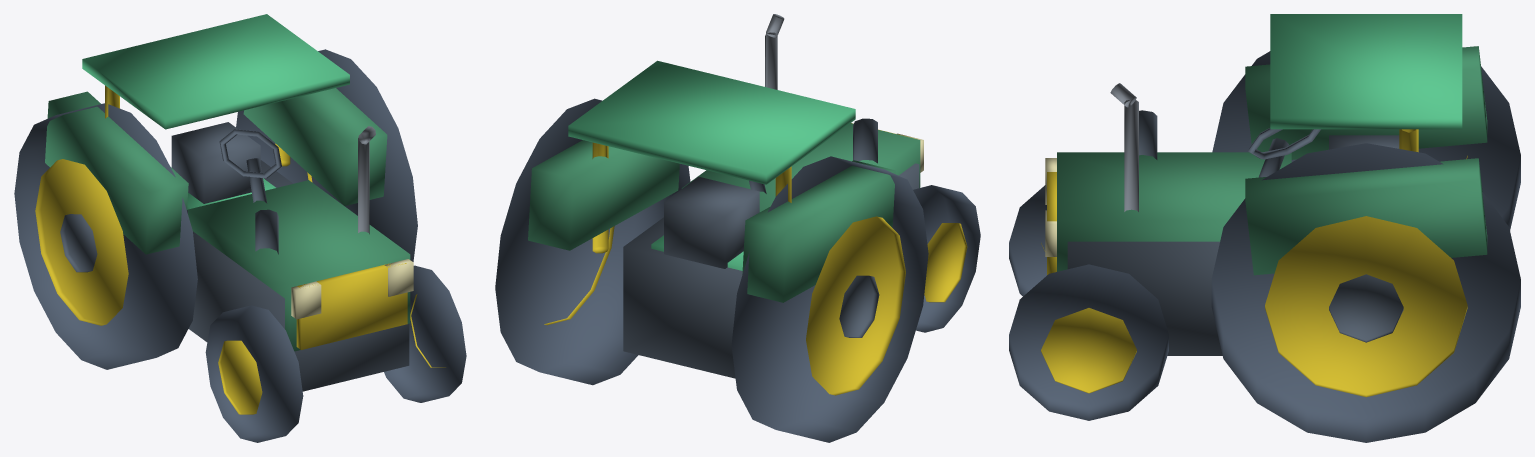
File: tractor.glb
The picture shows the model from 3 angles, left to right: view 1: azimuth 30°, elevation 25°; view 2: azimuth 150°, elevation 25°; view 3: azimuth 270°, elevation 25°; orthographic projection. The views are drawn at different scales.
Parts seen in each view (by area): view 1: world; view 2: world; view 3: world.
Boxes of the visible parts, x1,y1,x2,y2 form: world: [14, 14, 466, 442]; world: [495, 14, 980, 442]; world: [1009, 14, 1520, 442].
Bounding box in the file's own units: 3.5 × 3.2 × 4.8.
